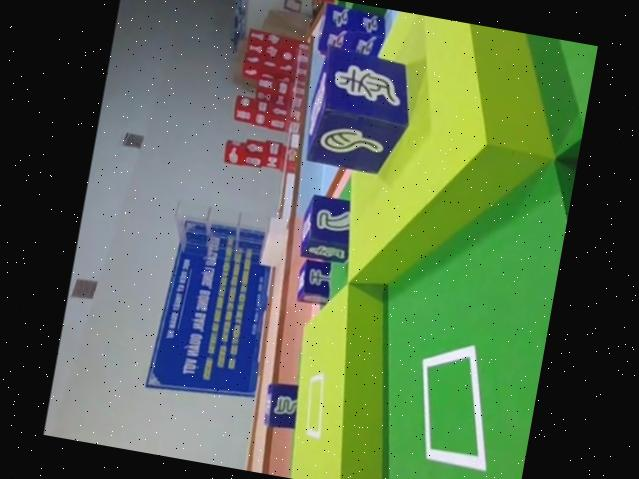R2 Fake Blue: (302, 46, 423, 181), (298, 192, 361, 265), (258, 380, 302, 434), (293, 257, 339, 308)
